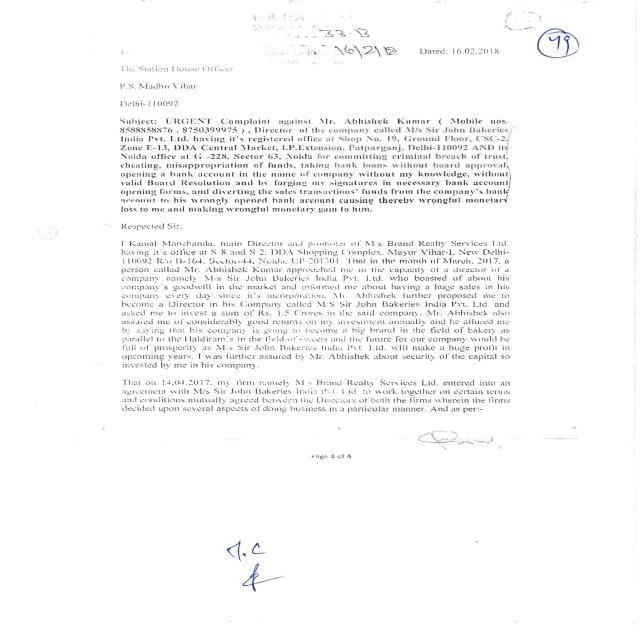page-number: (514, 26, 634, 172)
